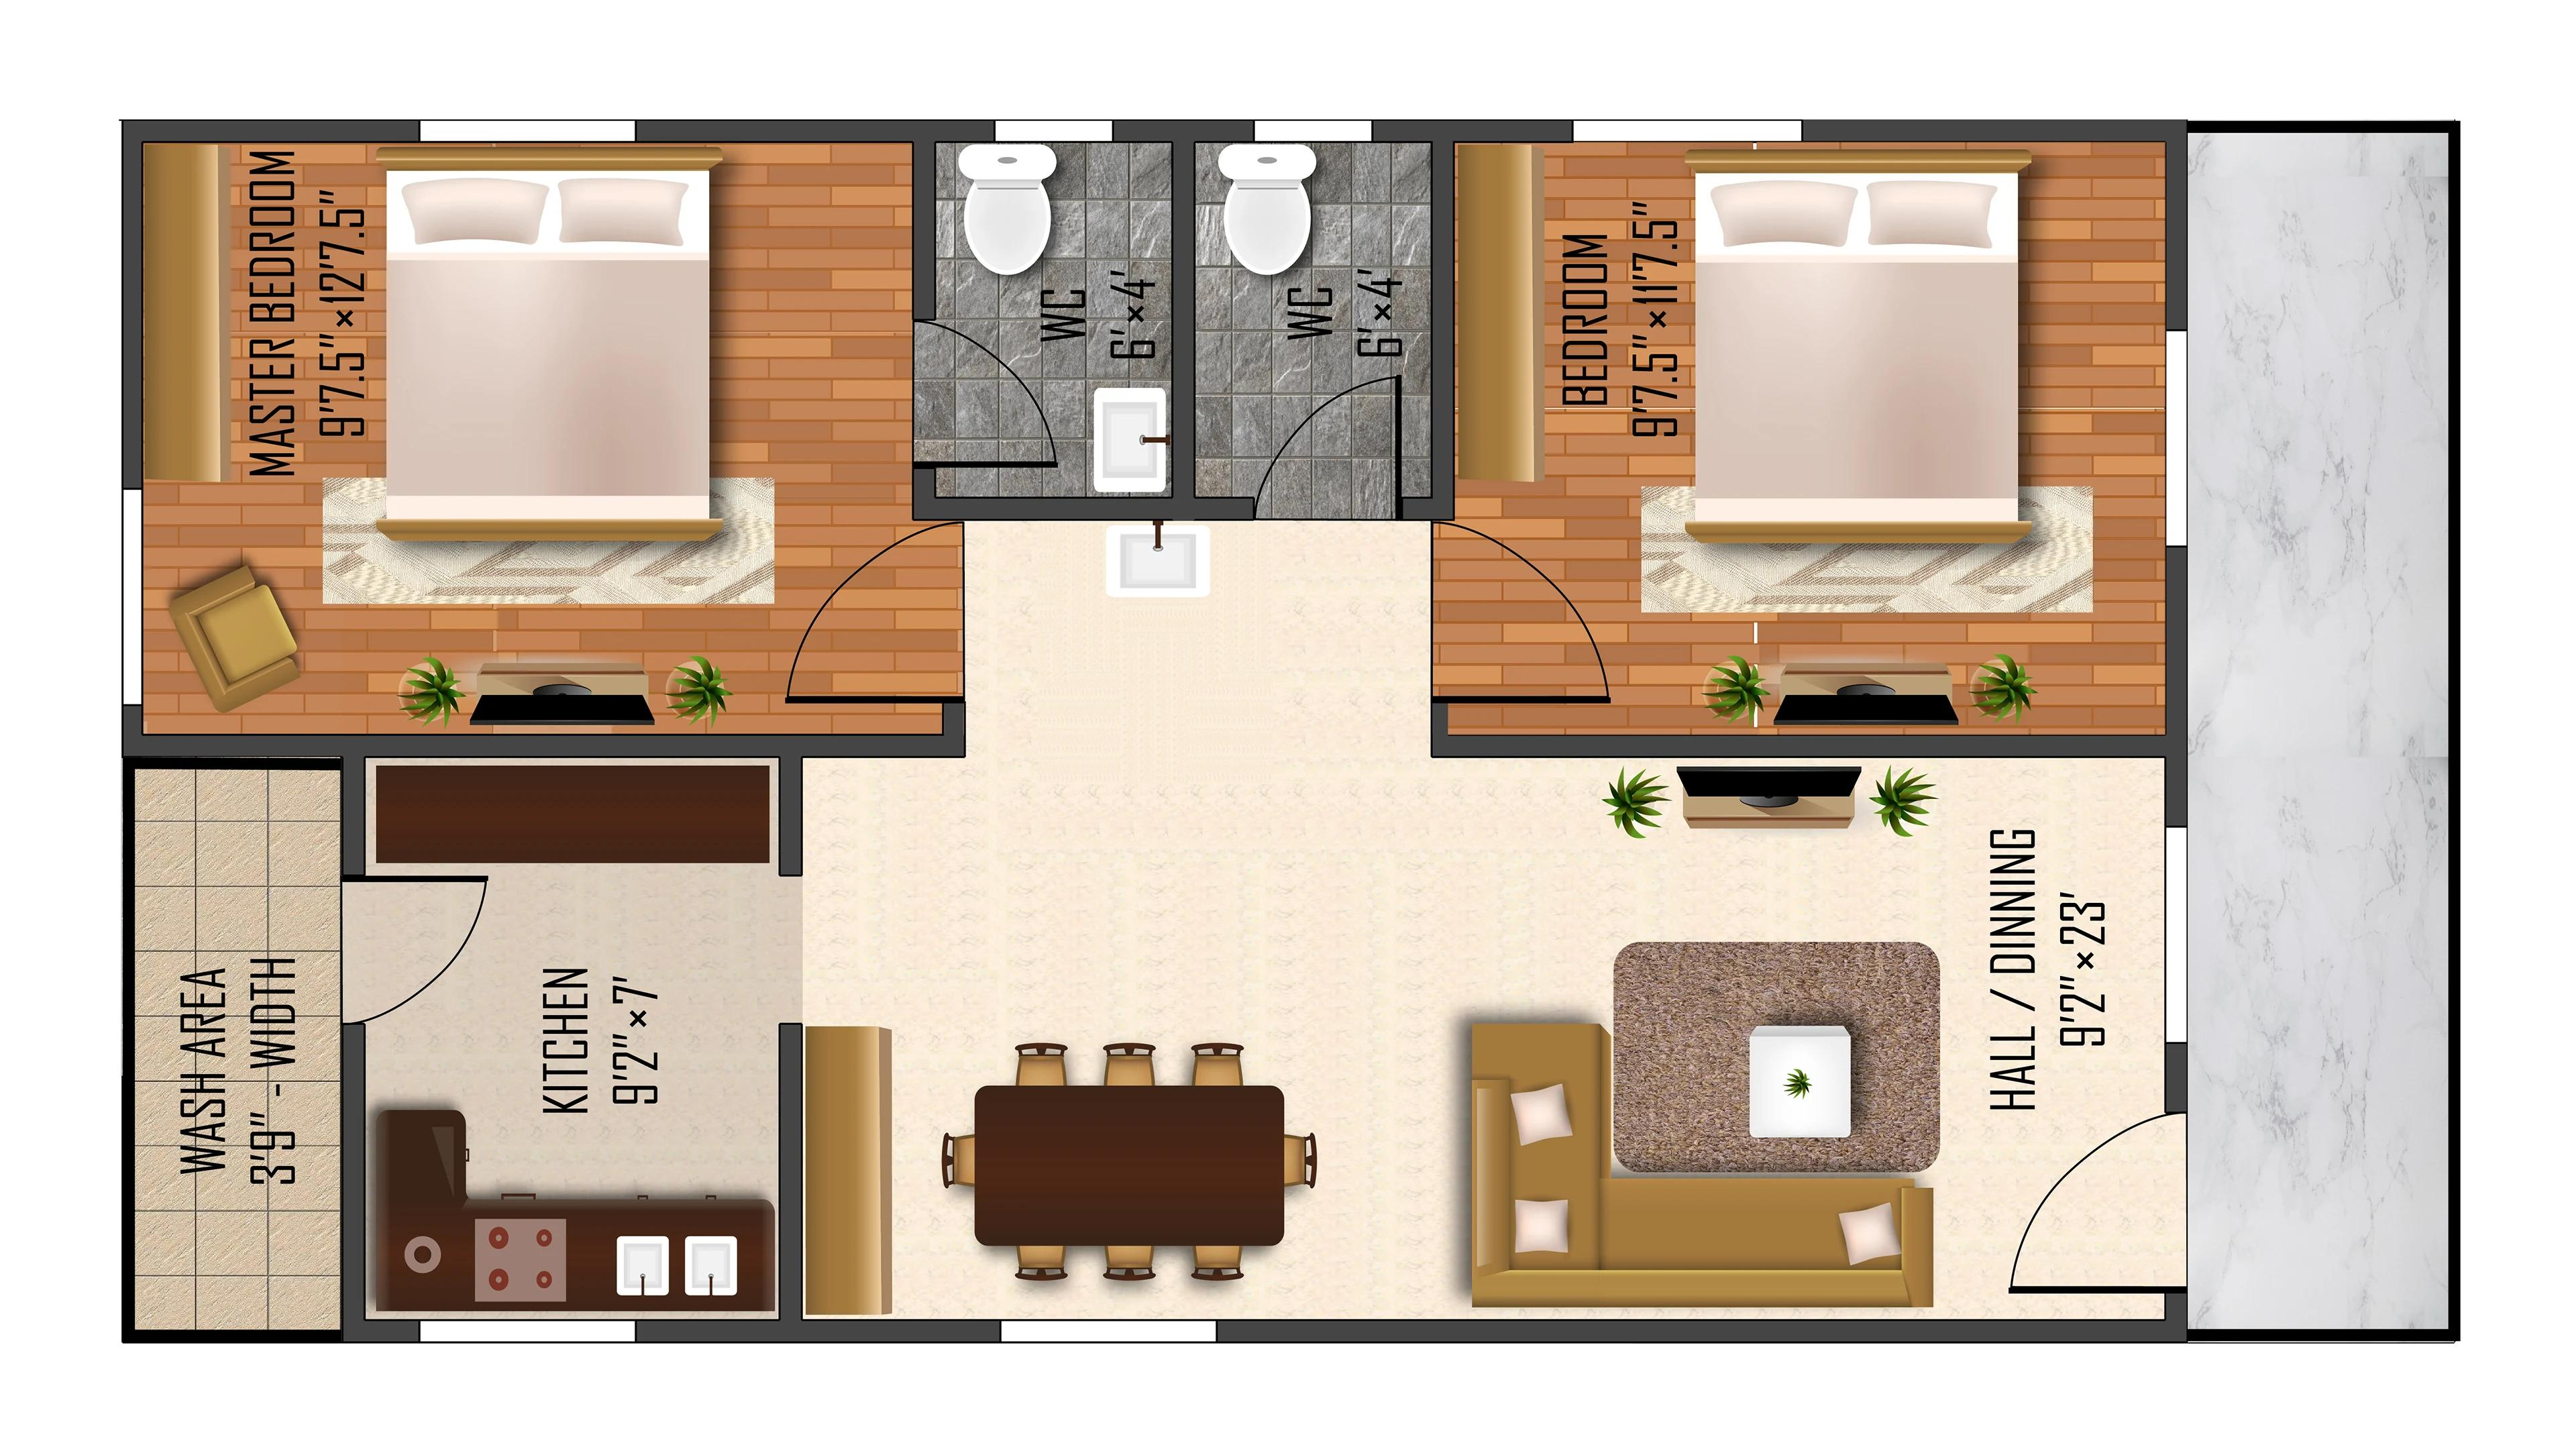room: (796, 748, 2180, 1327), (131, 129, 950, 747), (1445, 134, 2169, 738), (349, 743, 793, 1322), (922, 120, 1182, 511), (1187, 115, 1437, 506)
